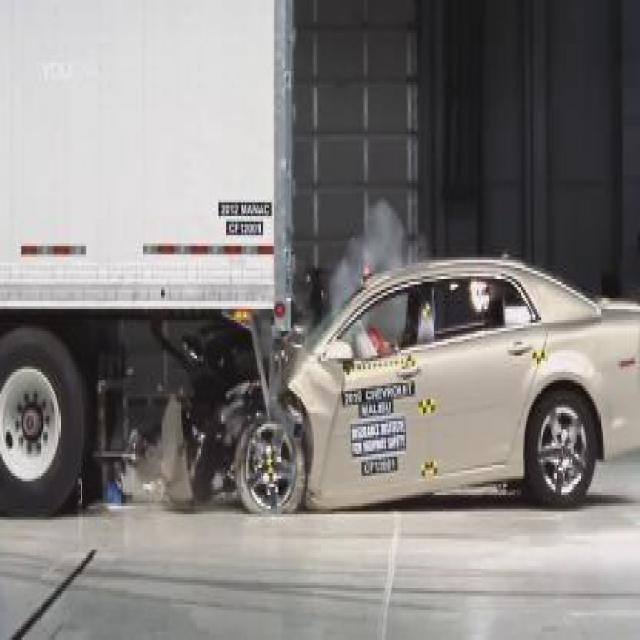accident: (0, 0, 638, 525)
